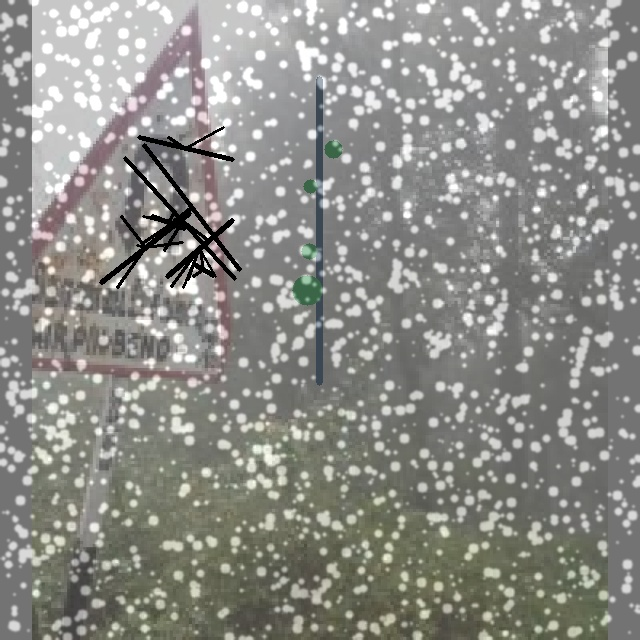Left_Hair_Pin_Bend: (84, 94, 242, 289)
